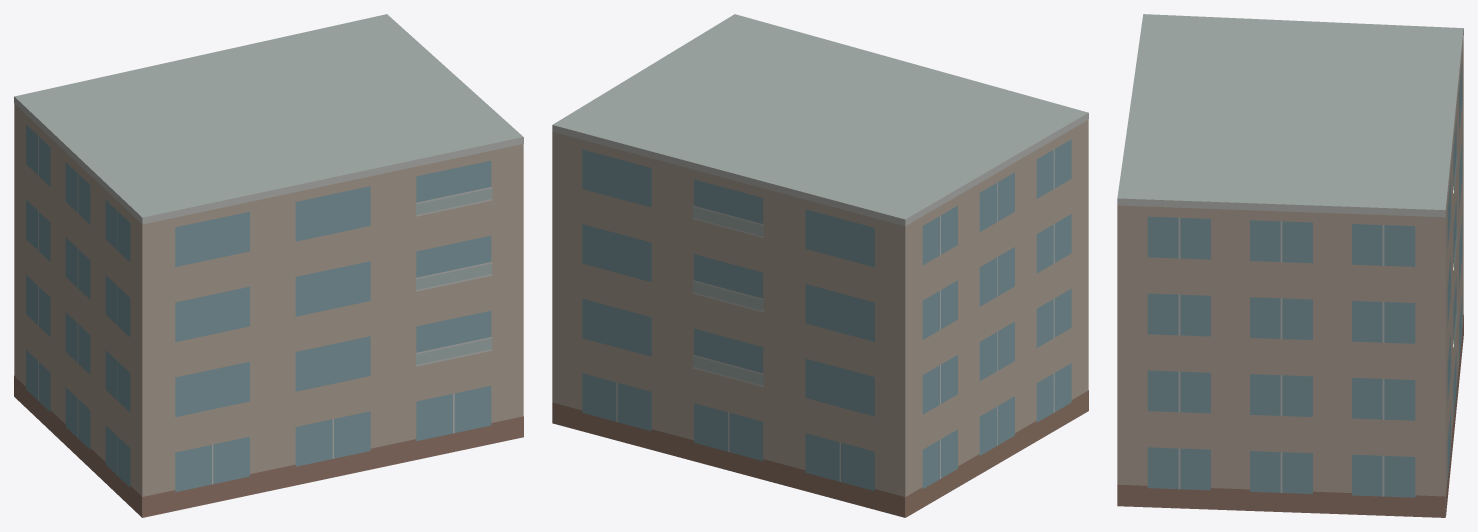
File: survey-upis-32868297.glb
The picture shows the model from 3 angles, left to right: view 1: azimuth 30°, elevation 25°; view 2: azimuth 150°, elevation 25°; view 3: azimuth 270°, elevation 25°; orthographic projection. The views are drawn at different scales.
Parts seen in each view (by area): view 1: survey-upis-32868297.tmp; view 2: survey-upis-32868297.tmp; view 3: survey-upis-32868297.tmp.
Boxes of the visible parts, x1,y1,x2,y2 form: survey-upis-32868297.tmp: [14, 14, 523, 517]; survey-upis-32868297.tmp: [552, 14, 1088, 517]; survey-upis-32868297.tmp: [1117, 14, 1463, 517].
Size of the model in its own units: 14.59 by 10.66 by 10.89.
